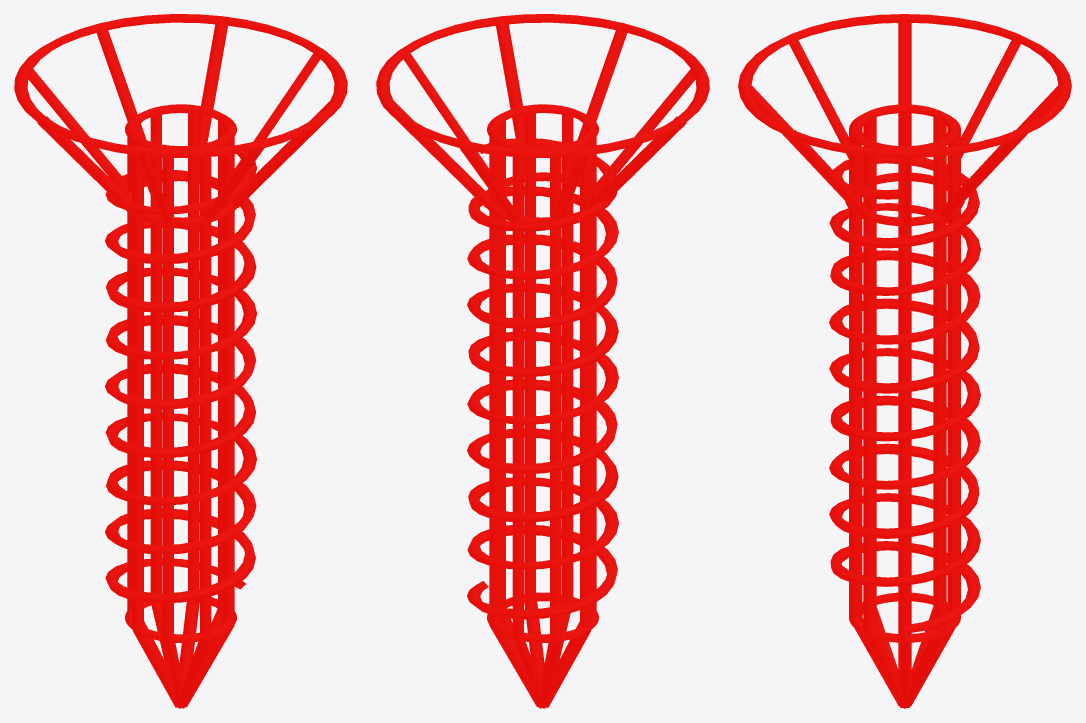
File: asteroid-tracker-highlight-calibration-device.glb
3 views of the same model, side by side, from view 1: azimuth 30°, elevation 25°; view 2: azimuth 150°, elevation 25°; view 3: azimuth 270°, elevation 25° (orthographic).
Parts seen in each view (by area): view 1: calibration-device technical wire; view 2: calibration-device technical wire; view 3: calibration-device technical wire.
Part boxes in pixels (x1,y1,x2,y2): calibration-device technical wire: (14,14,347,708); calibration-device technical wire: (376,14,709,708); calibration-device technical wire: (738,14,1071,708).
Size of the model in its own units: 0.25 by 0.516 by 0.25.
